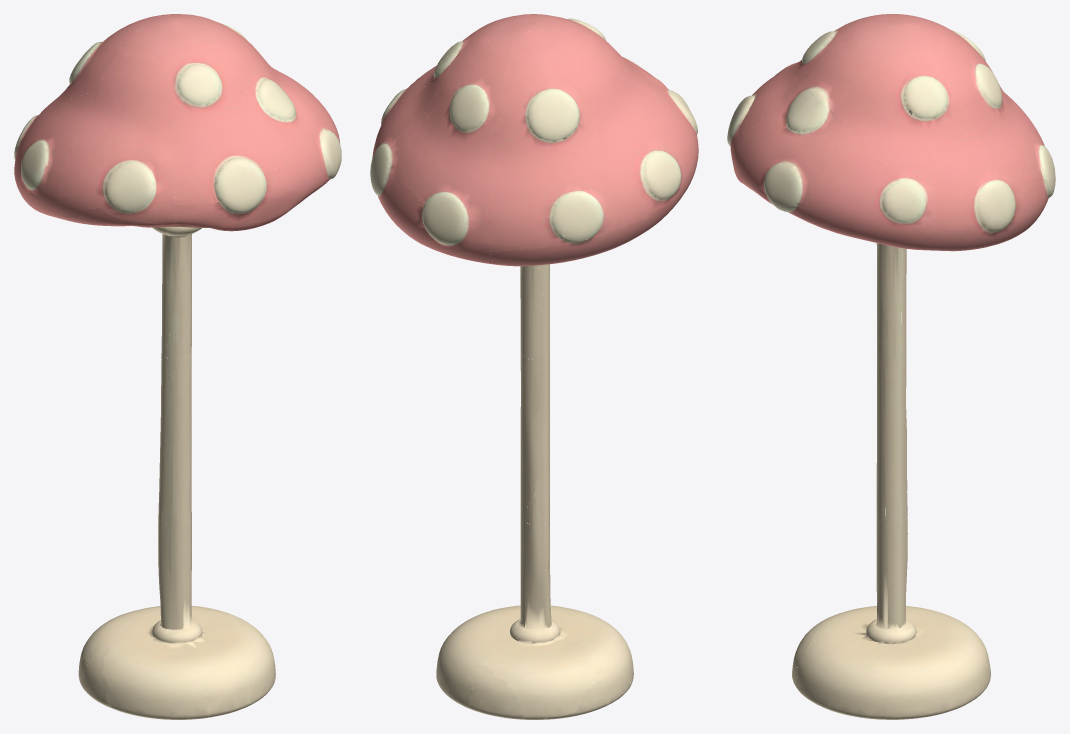
Rendered from lamp.glb.
The picture shows the model from 3 angles, left to right: view 1: azimuth 30°, elevation 25°; view 2: azimuth 150°, elevation 25°; view 3: azimuth 270°, elevation 25°; orthographic projection.
Visible parts, largest first — view 1: tripo_node_5ca786c7-8ab8-4211-9a33-0208e71b672c; view 2: tripo_node_5ca786c7-8ab8-4211-9a33-0208e71b672c; view 3: tripo_node_5ca786c7-8ab8-4211-9a33-0208e71b672c.
Part boxes in pixels (bbox=[...]): tripo_node_5ca786c7-8ab8-4211-9a33-0208e71b672c: bbox=[14, 14, 341, 719]; tripo_node_5ca786c7-8ab8-4211-9a33-0208e71b672c: bbox=[370, 14, 698, 719]; tripo_node_5ca786c7-8ab8-4211-9a33-0208e71b672c: bbox=[727, 14, 1055, 719].
Bounding box in the file's own units: 0.4478 × 0.9796 × 0.443.
Materials: 1 (1 with a texture image).
